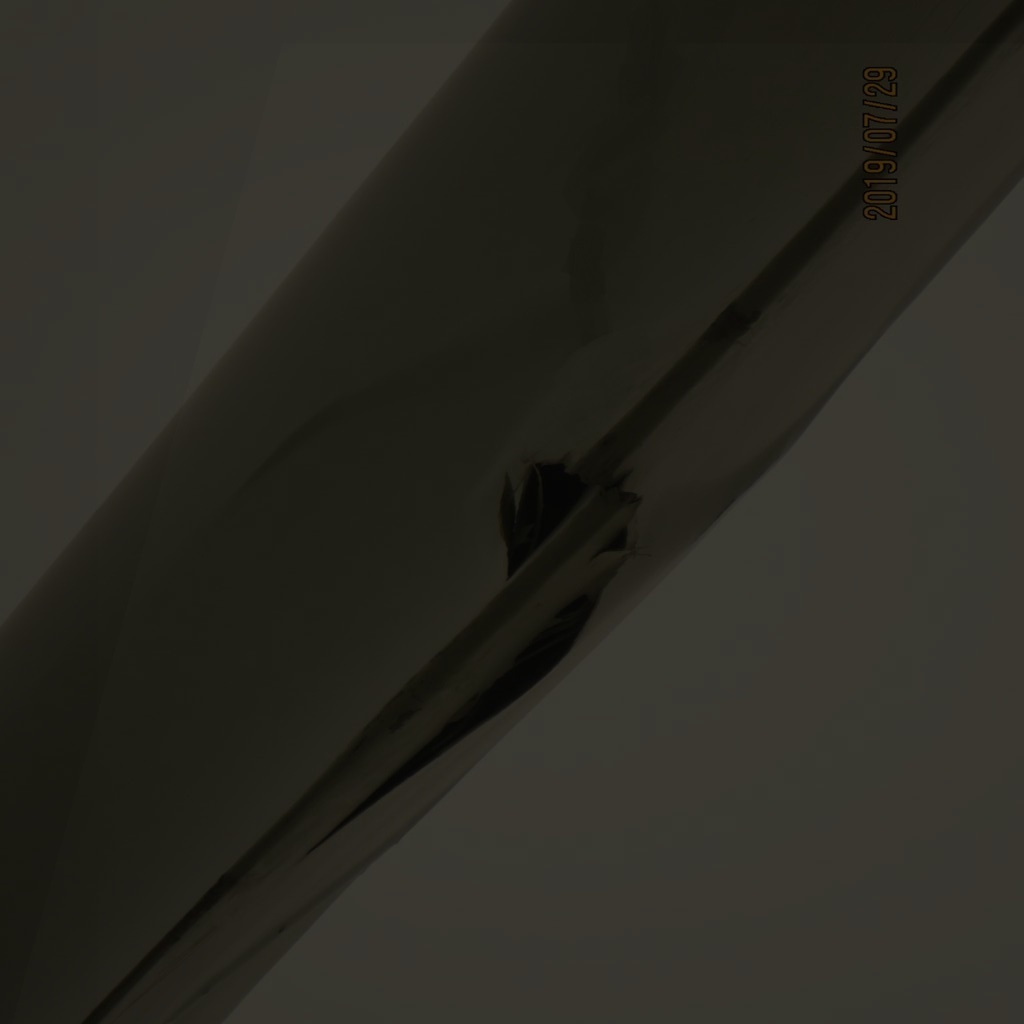craze: (303, 453, 645, 862)
